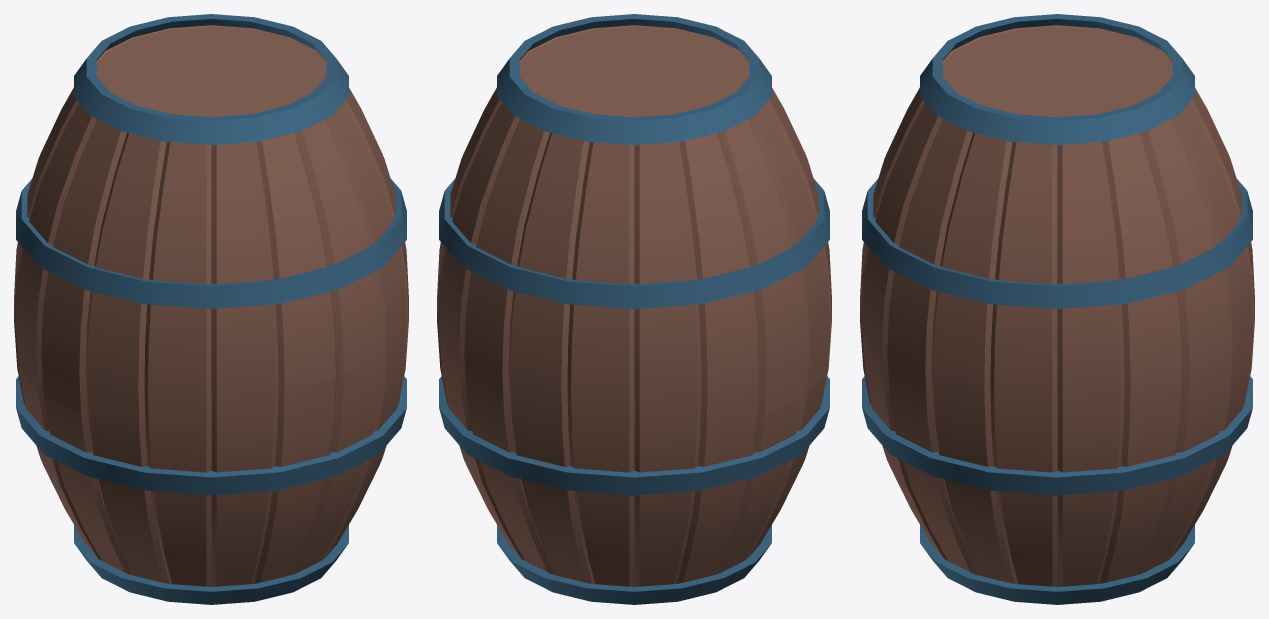
The model's file is breakableBarrel1.fbx.
3 renders of one model, left to right at view 1: azimuth 30°, elevation 25°; view 2: azimuth 150°, elevation 25°; view 3: azimuth 270°, elevation 25°, orthographic.
Visible parts, largest first — view 1: barrel_cell.002, barrel, barrel_cell.001, barrel_cell.008, barrel_cell.007, barrel_cell.006, barrel_cell.013, barrel_cell.014, barrel_cell.011; view 2: barrel, barrel_cell.002, barrel_cell.008, barrel_cell.011, barrel_cell.005, barrel_cell.007, barrel_cell.014, barrel_cell.013, barrel_cell.006, barrel_cell.012, barrel_cell.004; view 3: barrel, barrel_cell.001, barrel_cell.008, barrel_cell.013, barrel_cell.006, barrel_cell.007, barrel_cell.002, barrel_cell.014, barrel_cell.003.
Boxes of the visible parts, x1,y1,x2,y2 form: barrel_cell.002: [16, 102, 381, 586]; barrel: [14, 20, 408, 595]; barrel_cell.001: [289, 37, 408, 574]; barrel_cell.008: [96, 26, 326, 117]; barrel_cell.007: [74, 14, 348, 144]; barrel_cell.006: [16, 179, 406, 308]; barrel_cell.013: [16, 376, 406, 495]; barrel_cell.014: [74, 525, 348, 604]; barrel_cell.011: [14, 89, 78, 461]; barrel: [437, 15, 831, 604]; barrel_cell.002: [722, 89, 831, 571]; barrel_cell.008: [519, 26, 749, 117]; barrel_cell.011: [683, 132, 760, 582]; barrel_cell.005: [634, 142, 701, 574]; barrel_cell.007: [509, 14, 771, 137]; barrel_cell.014: [497, 525, 771, 604]; barrel_cell.013: [439, 376, 829, 486]; barrel_cell.006: [444, 179, 829, 303]; barrel_cell.012: [567, 142, 634, 586]; barrel_cell.004: [508, 134, 589, 428]; barrel: [862, 17, 1254, 604]; barrel_cell.001: [862, 102, 1124, 586]; barrel_cell.008: [942, 29, 1172, 117]; barrel_cell.013: [862, 376, 1252, 494]; barrel_cell.006: [862, 179, 1247, 308]; barrel_cell.007: [920, 14, 1182, 144]; barrel_cell.002: [860, 87, 947, 560]; barrel_cell.014: [920, 525, 1194, 604]; barrel_cell.003: [1099, 128, 1189, 583].
Size of the model in its own units: 96.97 by 130 by 95.93.
